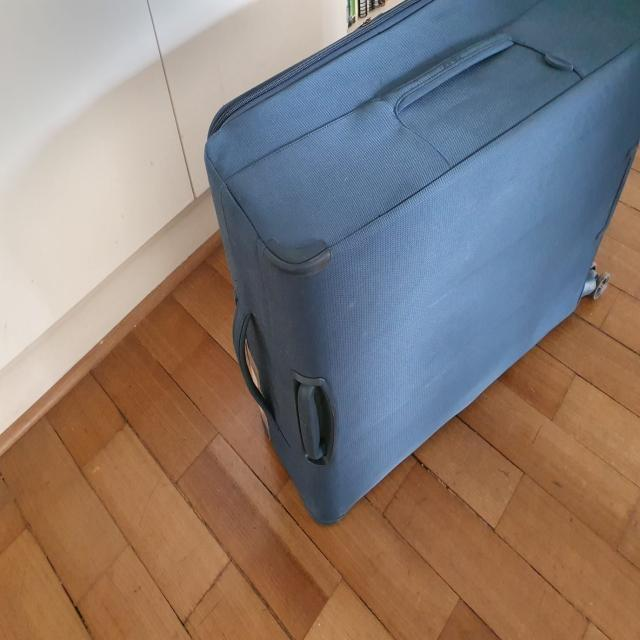Suitcase: (206, 0, 640, 528)
